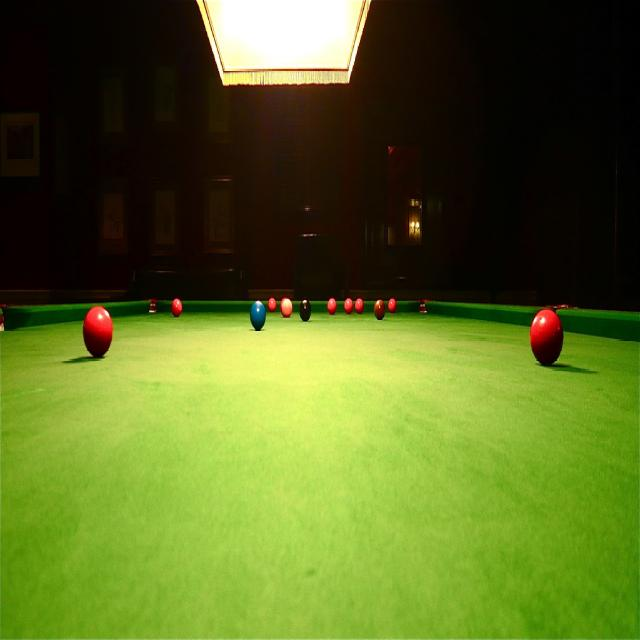Ball: (531, 312, 563, 367), (80, 304, 112, 356), (249, 298, 265, 329), (300, 298, 312, 322), (280, 297, 294, 316), (172, 294, 183, 318), (375, 300, 384, 320), (328, 300, 337, 316), (345, 299, 352, 318), (269, 296, 276, 312), (278, 298, 286, 310), (388, 300, 396, 312), (357, 298, 362, 313)
Billiard table: (0, 299, 640, 640)
